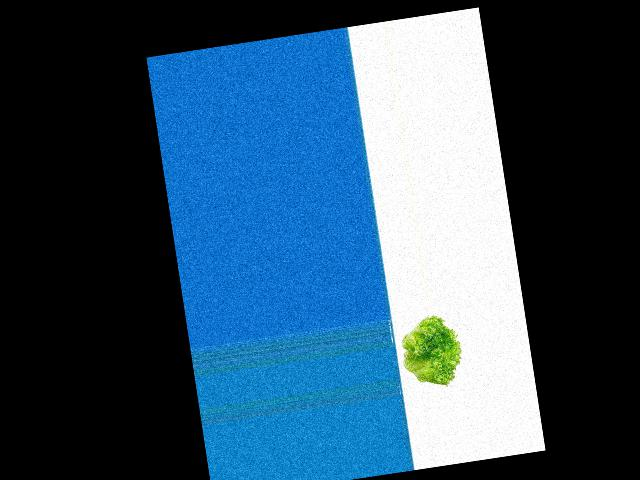lettuce: (393, 311, 468, 390)
